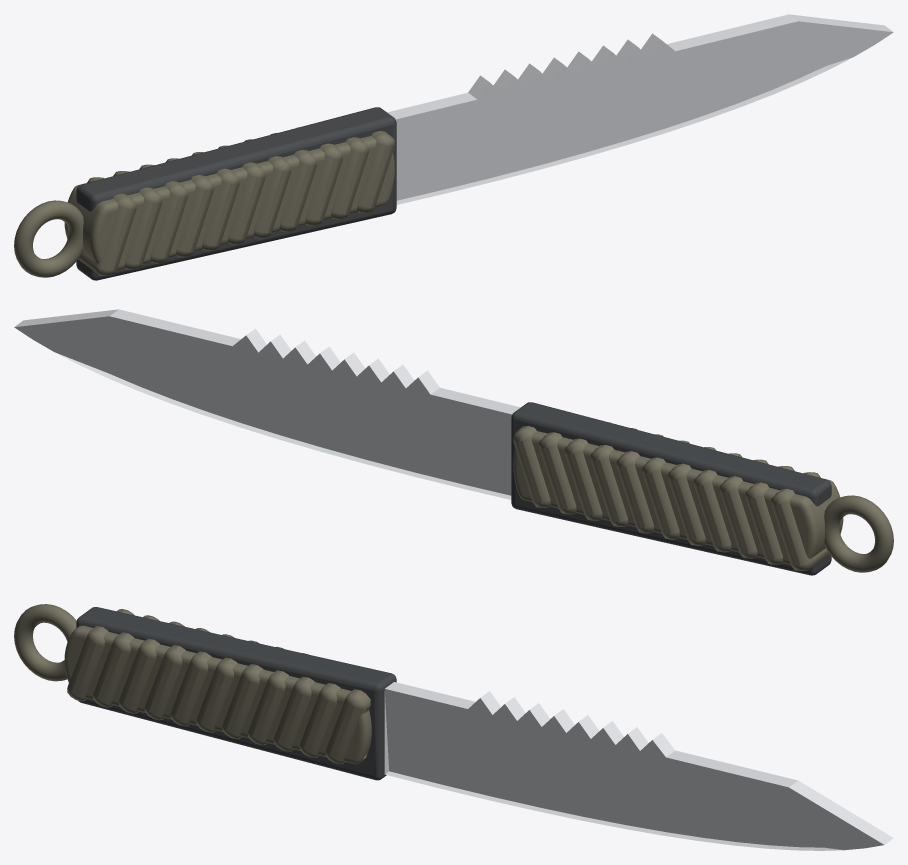
Rendered from knife_survival.glb.
The picture shows the model from 3 angles, top to bottom: view 1: azimuth 30°, elevation 25°; view 2: azimuth 150°, elevation 25°; view 3: azimuth 330°, elevation 25°; orthographic projection.
Visible parts, largest first — view 1: blade, tang, handle, lanyard, wrap0, wrap1, wrap2, wrap3, wrap4, wrap5, wrap6, wrap7 (+3 smaller); view 2: blade, tang, handle, lanyard, wrap0, wrap1, wrap2, wrap3, wrap4, wrap5, wrap6, wrap7 (+3 smaller); view 3: blade, tang, handle, lanyard, wrap10, wrap0, wrap1, wrap2, wrap3, wrap4, wrap5, wrap6 (+3 smaller).
Part boxes in pixels (x1,y1,x2,y2): blade: (387,14,893,204); tang: (76,107,396,280); handle: (64,136,394,269); lanyard: (14,200,83,277); wrap0: (78,177,136,275); wrap1: (113,171,162,269); wrap2: (139,164,188,263); wrap3: (165,158,213,257); wrap4: (192,152,239,250); wrap5: (218,145,265,244); wrap6: (244,139,291,238); wrap7: (270,133,317,231); blade: (14,309,520,499); tang: (511,402,831,575); handle: (513,431,843,564); lanyard: (824,495,893,572); wrap0: (771,472,829,570); wrap1: (745,466,794,564); wrap2: (719,459,768,558); wrap3: (694,453,742,552); wrap4: (668,447,715,545); wrap5: (642,440,689,539); wrap6: (616,434,663,533); wrap7: (590,428,637,526); blade: (384,682,893,850); tang: (76,607,396,780); handle: (64,625,371,764); lanyard: (14,604,76,681); wrap10: (325,689,370,764); wrap0: (67,609,133,701); wrap1: (93,615,159,707); wrap2: (119,621,184,713); wrap3: (144,628,209,720); wrap4: (170,634,234,726); wrap5: (196,640,259,732); wrap6: (222,646,283,739).
Size of the model in its own units: 0.32 by 0.037 by 0.023.
